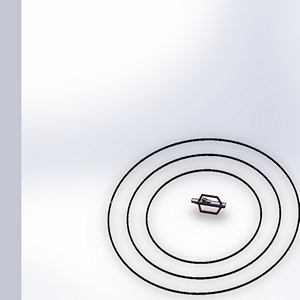circle: (90, 125, 300, 297)
submarine: (182, 186, 232, 227)
